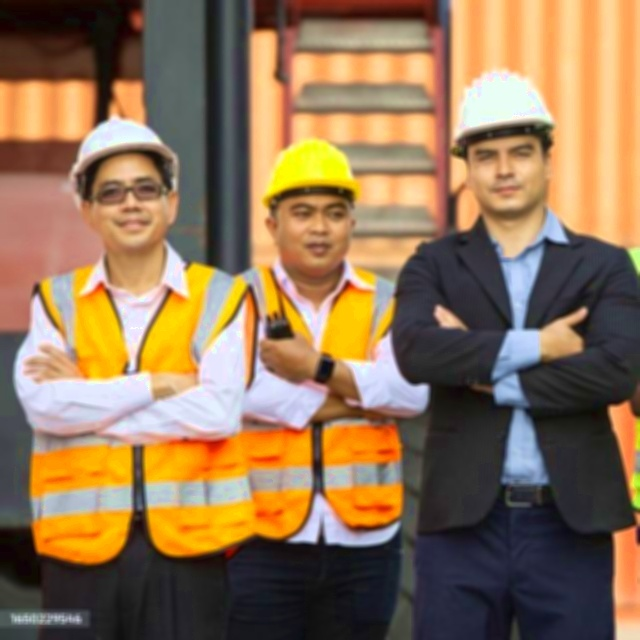Con_Casco: (450, 66, 558, 218), (66, 114, 179, 244), (264, 136, 360, 277)
Con_Chaleco: (27, 259, 254, 556), (224, 267, 402, 540)
Sin_Chaleco: (402, 222, 640, 515)
